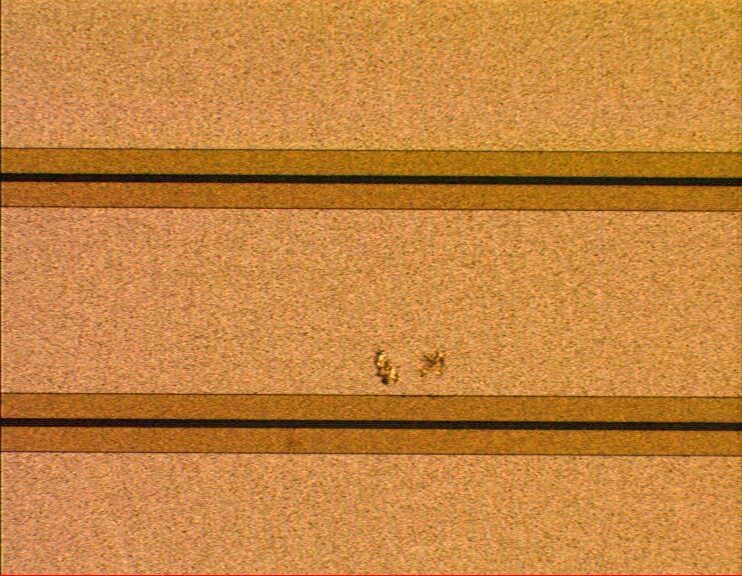SCRATCH: (350, 335, 493, 394)
